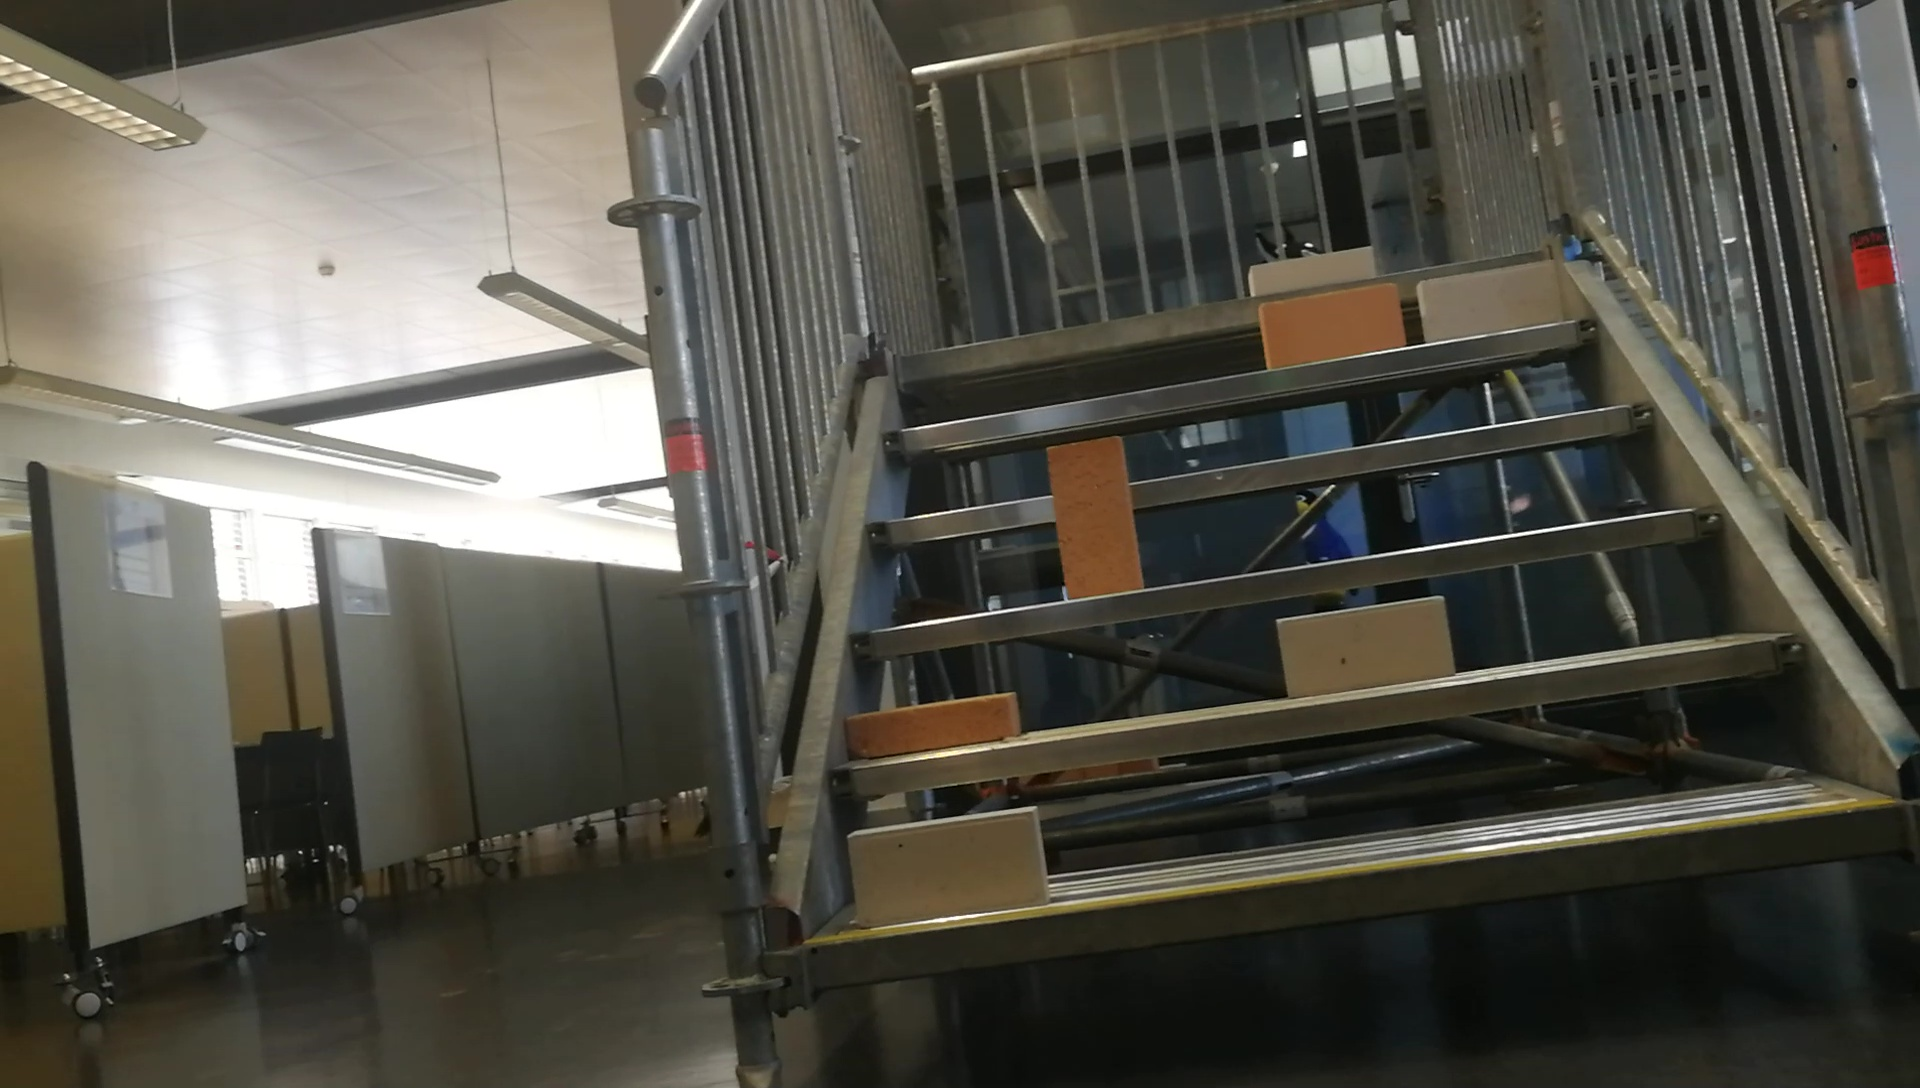brick: (849, 804, 1043, 926), (1278, 595, 1449, 698), (1048, 440, 1145, 593), (843, 690, 1019, 756), (1258, 285, 1400, 367), (1422, 262, 1563, 338), (1247, 247, 1371, 287)
edge: (803, 801, 1903, 986), (833, 630, 1803, 795), (855, 502, 1721, 658), (868, 401, 1650, 546), (884, 318, 1596, 448)
stairs: (611, 3, 1920, 1083)
steps: (775, 233, 1911, 1015)
